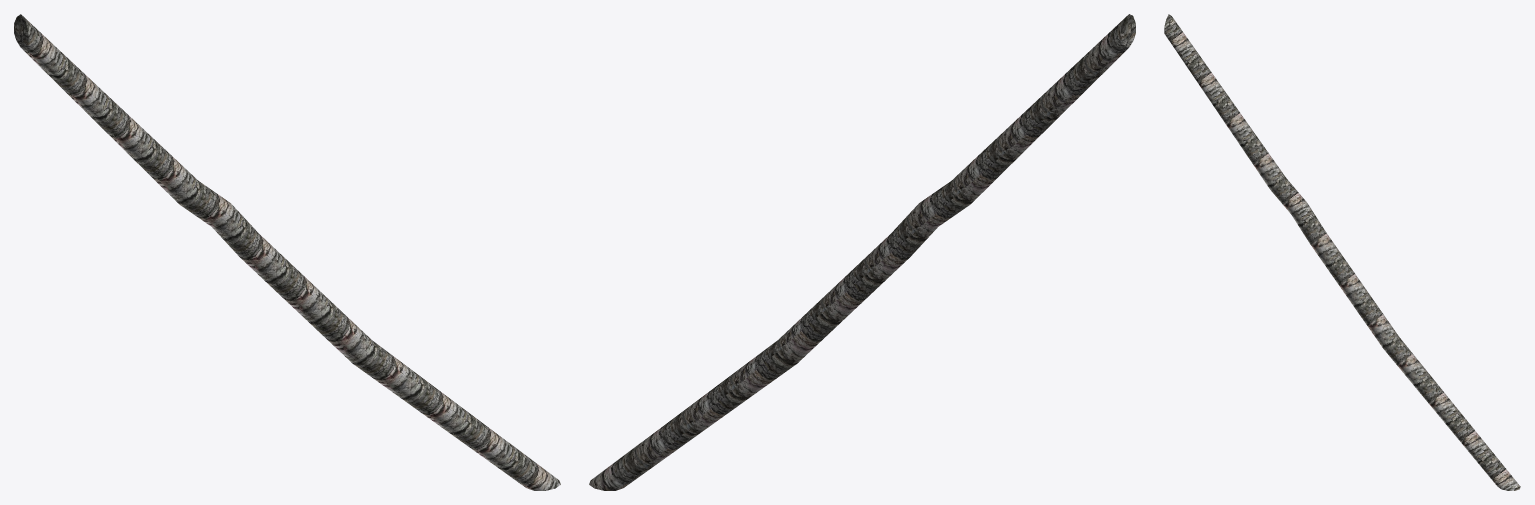
The model's file is treebuttress.FBX.
3 views of the same model, side by side, from view 1: azimuth 30°, elevation 25°; view 2: azimuth 150°, elevation 25°; view 3: azimuth 330°, elevation 25° (orthographic). The views are drawn at different scales.
Visible parts, largest first — view 1: Cylinder001; view 2: Cylinder001; view 3: Cylinder001.
Part boxes in pixels (x1,y1,x2,y2): Cylinder001: (14, 14, 560, 490); Cylinder001: (589, 14, 1135, 490); Cylinder001: (1164, 14, 1520, 490).
Bounding box in the file's own units: 82.08 × 87.03 × 3.83.
1 material, 1 textured.
